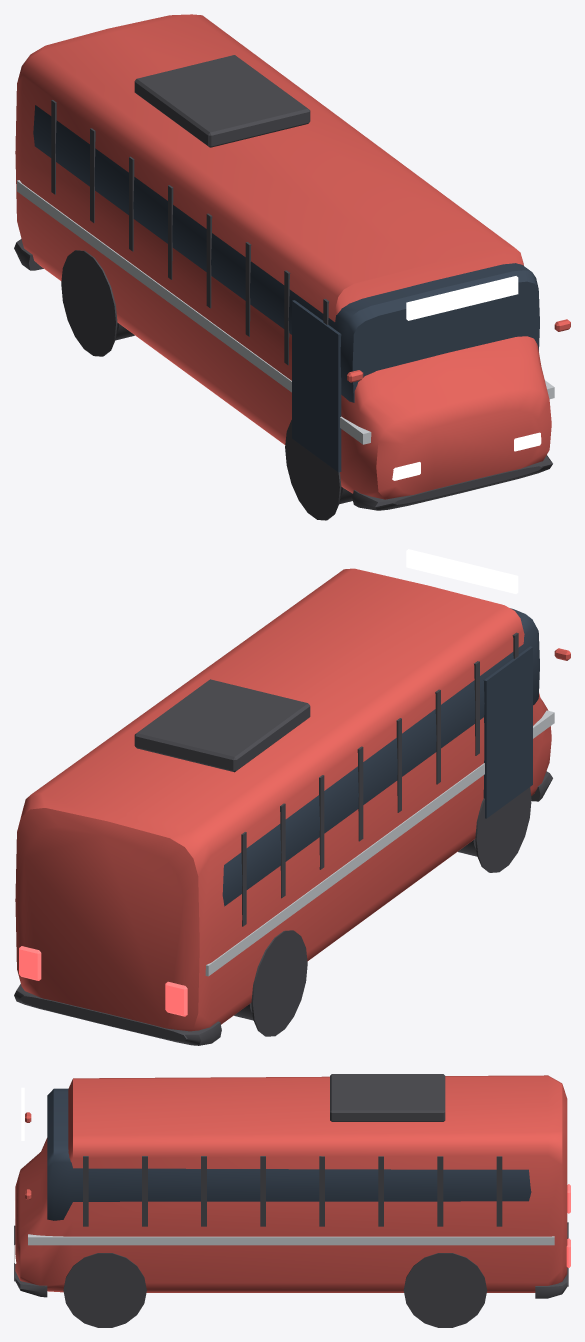
File: car_bus.glb
The picture shows the model from 3 angles, top to bottom: view 1: azimuth 30°, elevation 25°; view 2: azimuth 150°, elevation 25°; view 3: azimuth 270°, elevation 25°; orthographic projection. The views are drawn at different scales.
Visible parts, largest first — view 1: body, windows, roofunit, door, arch.003, stripe, arch.002, bumperF, destination; view 2: body, windows, roofunit, door, arch.003, stripe, arch.002, bumperR, destination, taillight.001, taillight; view 3: body, windows, roofunit, stripe, arch, arch.001, pillar.006, pillar.007, bumperR, bumperF, pillar, pillar.001 (+4 smaller).
Boxes of the visible parts, <box> form: body: <box>15,14,551,499</box>; windows: <box>33,105,539,402</box>; roofunit: <box>134,55,310,147</box>; door: <box>292,300,341,472</box>; arch.003: <box>61,250,117,356</box>; stripe: <box>17,180,554,444</box>; arch.002: <box>285,420,341,520</box>; bumperF: <box>352,455,552,510</box>; destination: <box>406,276,518,320</box>; body: <box>15,568,551,1031</box>; windows: <box>222,608,539,906</box>; roofunit: <box>134,679,310,772</box>; door: <box>483,646,532,818</box>; arch.003: <box>251,930,307,1036</box>; stripe: <box>205,710,554,976</box>; arch.002: <box>475,787,531,872</box>; bumperR: <box>14,984,221,1045</box>; destination: <box>406,549,518,593</box>; taillight.001: <box>165,981,187,1016</box>; taillight: <box>19,946,41,980</box>; body: <box>15,1075,567,1292</box>; windows: <box>47,1088,531,1220</box>; roofunit: <box>330,1074,445,1121</box>; stripe: <box>28,1234,554,1245</box>; arch: <box>63,1253,146,1327</box>; arch.001: <box>403,1253,487,1327</box>; pillar.006: <box>437,1156,443,1226</box>; pillar.007: <box>496,1156,502,1226</box>; bumperR: <box>535,1222,568,1298</box>; bumperF: <box>14,1225,47,1297</box>; pillar: <box>83,1156,88,1226</box>; pillar.001: <box>142,1156,147,1226</box>.
Size of the model in its own units: 3.04 by 3.44 by 8.68.
